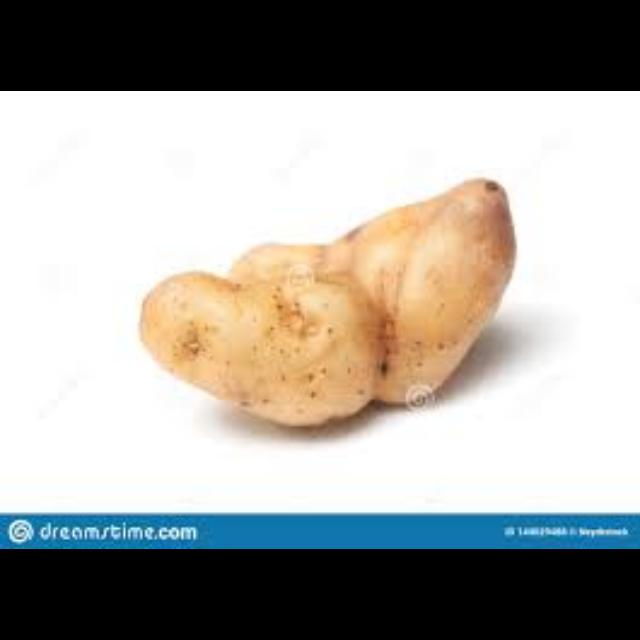Damaged potato: (130, 148, 522, 436)
